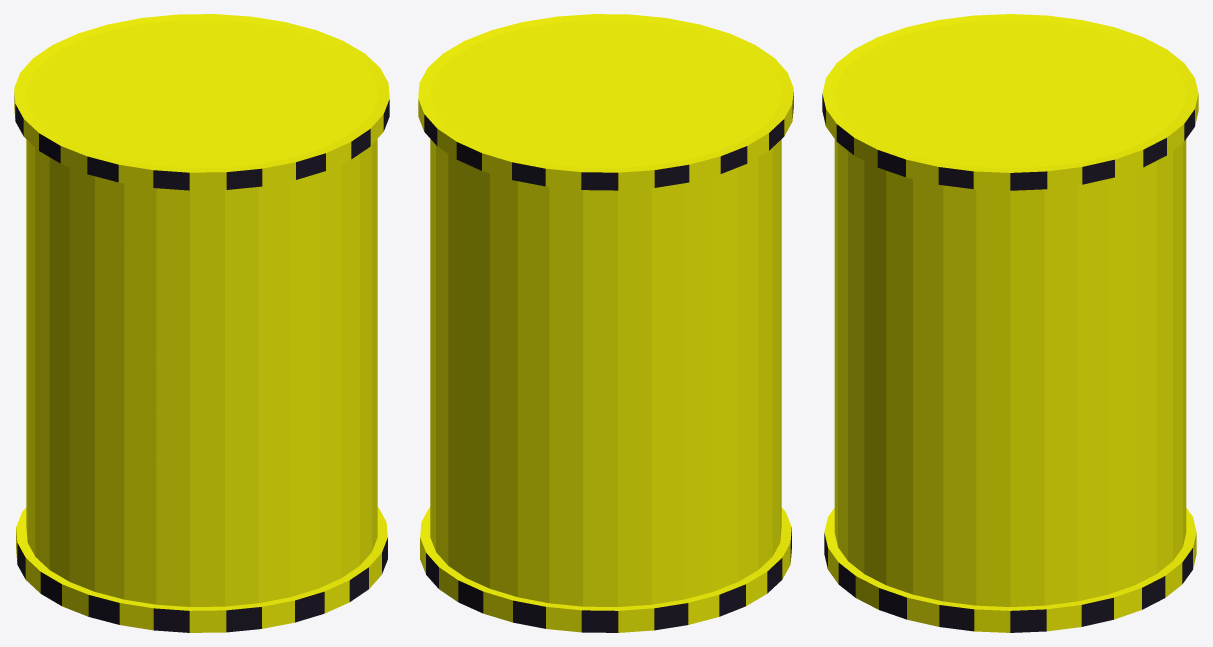
Rendered from WasteBarrel.fbx.
3 renders of one model, left to right at view 1: azimuth 30°, elevation 25°; view 2: azimuth 150°, elevation 25°; view 3: azimuth 270°, elevation 25°, orthographic.
Visible parts, largest first — view 1: Cylinder; view 2: Cylinder; view 3: Cylinder.
Boxes of the visible parts, x1,y1,x2,y2 form: Cylinder: (14,14,389,632); Cylinder: (418,14,793,632); Cylinder: (822,14,1198,632).
Bounding box in the file's own units: 256 × 346 × 256.
